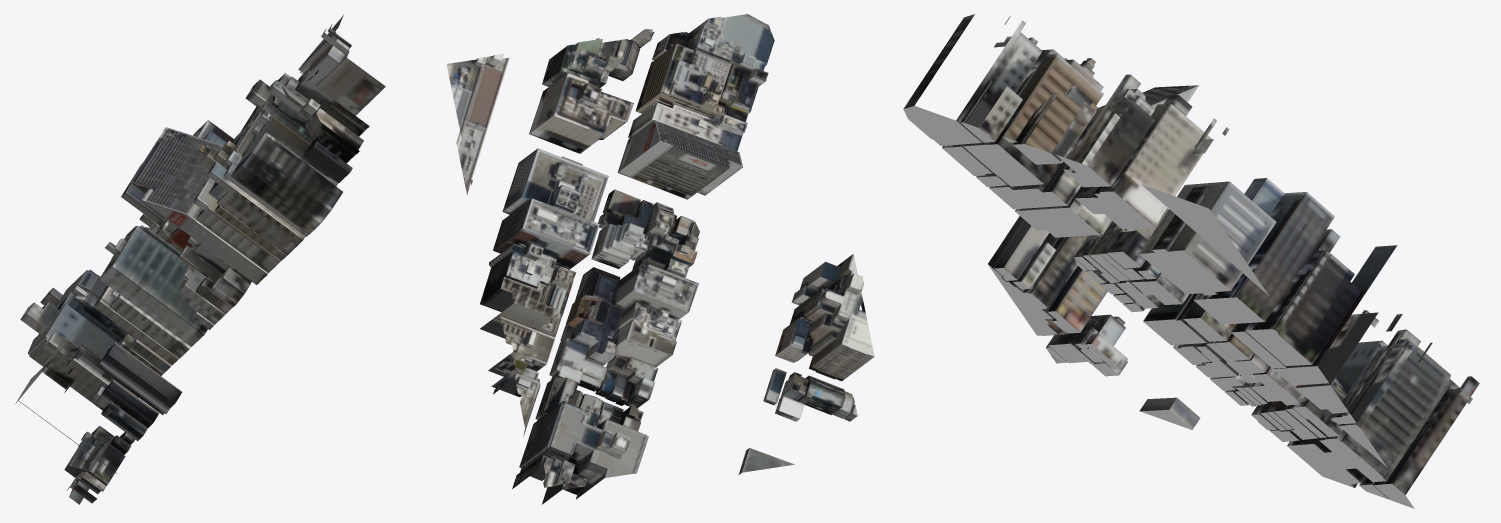
Rendered from 39530_bldg_Building.glb.
The picture shows the model from 3 angles, left to right: view 1: azimuth 30°, elevation 25°; view 2: azimuth 150°, elevation 25°; view 3: azimuth 270°, elevation 25°; orthographic projection. The views are drawn at different scales.
Size of the model in its own units: 161 by 144 by 163.
2 materials, 1 textured.
